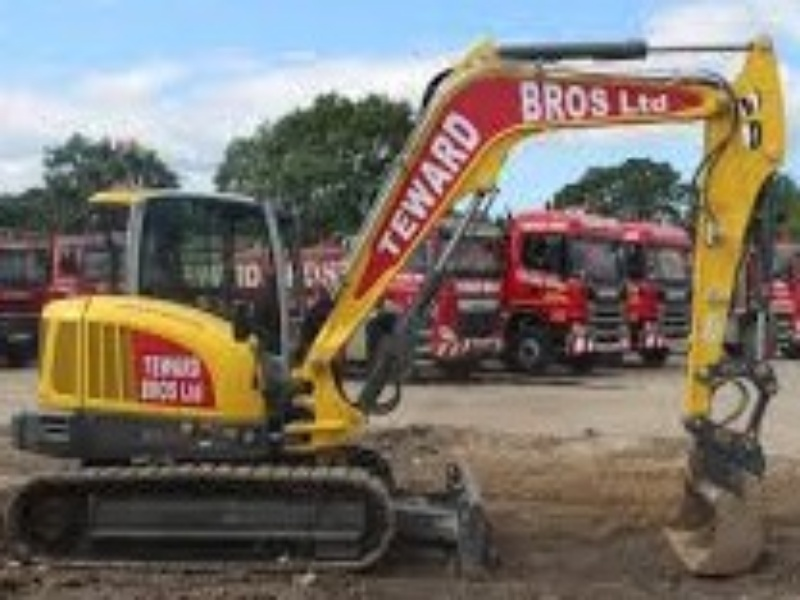wajueji: (4, 165, 556, 595)
